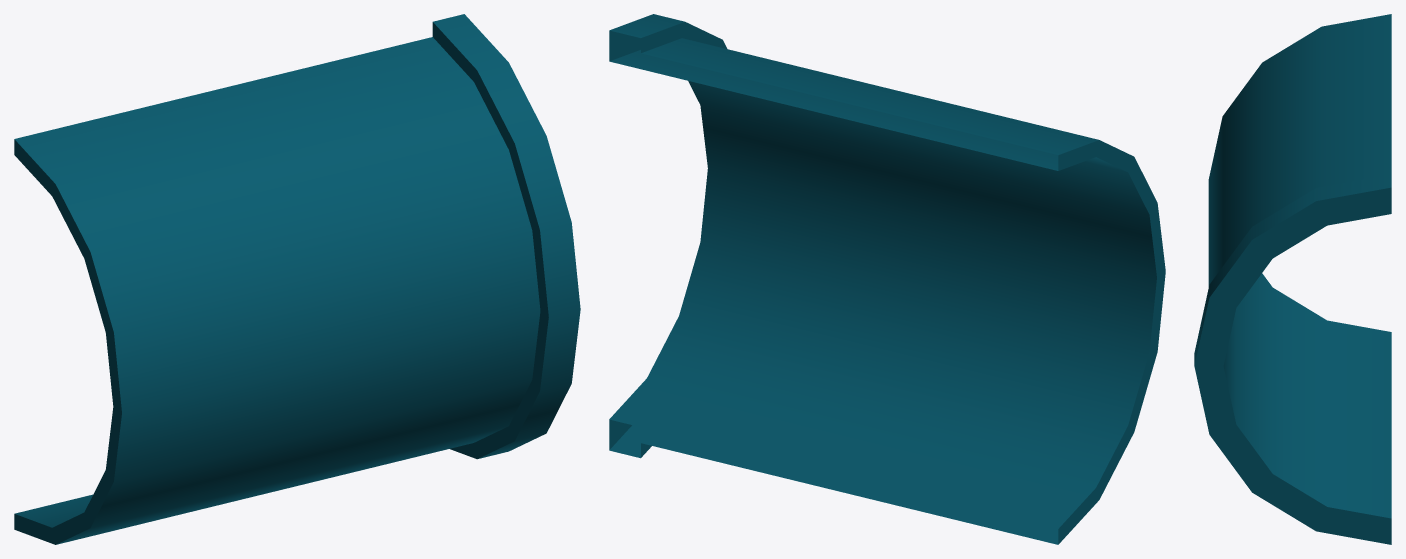
The model's file is Modulo2_Blockout_Cobertura.FBX.
3 views of the same model, side by side, from view 1: azimuth 30°, elevation 25°; view 2: azimuth 150°, elevation 25°; view 3: azimuth 270°, elevation 25° (orthographic). The views are drawn at different scales.
Visible parts, largest first — view 1: Tubo_Modulo2_Covertura; view 2: Tubo_Modulo2_Covertura; view 3: Tubo_Modulo2_Covertura.
Boxes of the visible parts, x1,y1,x2,y2 form: Tubo_Modulo2_Covertura: (14, 14, 580, 544); Tubo_Modulo2_Covertura: (609, 14, 1165, 544); Tubo_Modulo2_Covertura: (1194, 14, 1391, 544).
Bounding box in the file's own units: 124 × 111 × 55.57.
